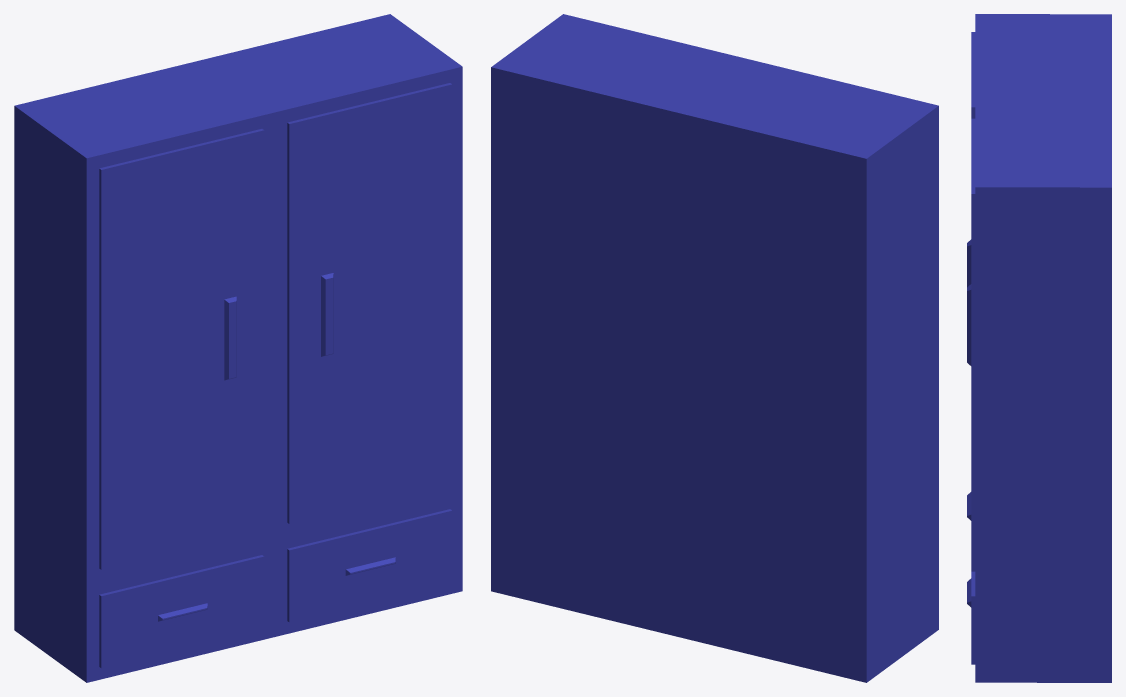
Rendered from storageE_4x1x3.FBX.
3 renders of one model, left to right at view 1: azimuth 30°, elevation 25°; view 2: azimuth 150°, elevation 25°; view 3: azimuth 270°, elevation 25°, orthographic. The views are drawn at different scales.
Parts seen in each view (by area): view 1: storageE_4x1x3; view 2: storageE_4x1x3; view 3: storageE_4x1x3.
Part boxes in pixels (left/top/right/bottom): storageE_4x1x3: left=14, top=14, right=462, bottom=682; storageE_4x1x3: left=491, top=14, right=938, bottom=682; storageE_4x1x3: left=967, top=14, right=1111, bottom=682.
Size of the model in its own units: 3 by 4 by 1.06.
